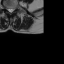CCS_stenosis: (9, 7, 11, 14)
LFS_normal: (13, 6, 15, 12)
LLS_normal: (11, 7, 13, 13)
RFS_normal: (6, 5, 7, 12)
RLS_normal: (7, 6, 9, 13)
